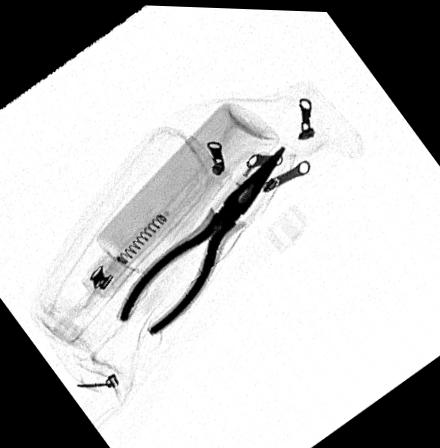Pliers: (115, 144, 286, 335)
